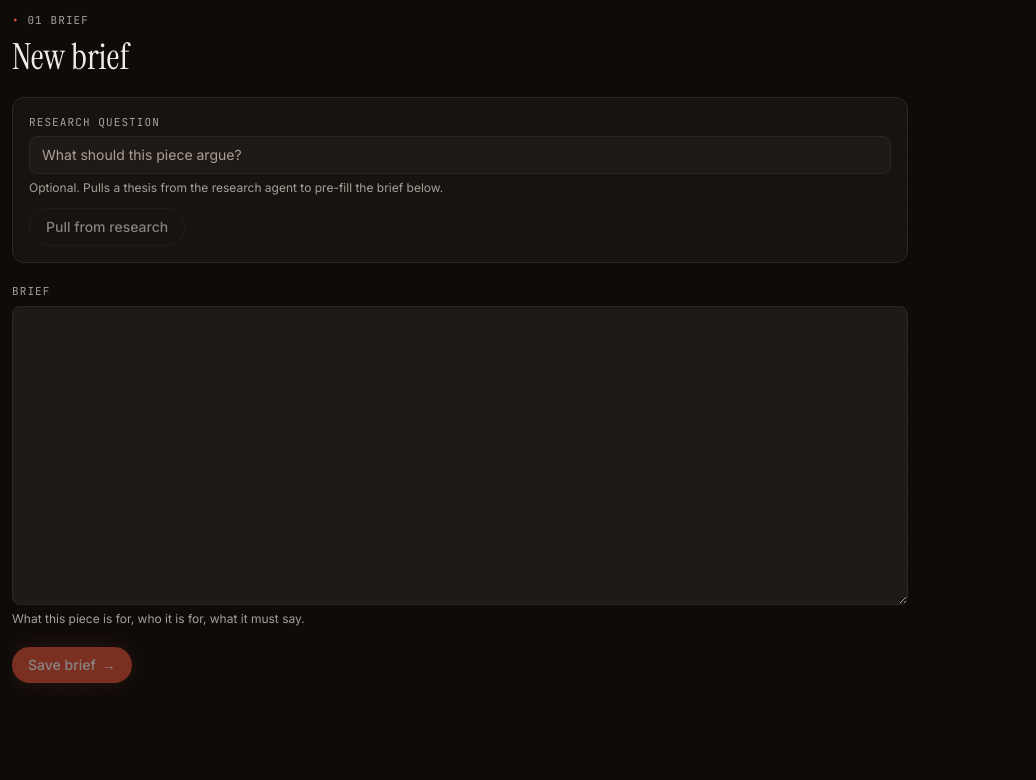
new brief › lets the member edit a pulled thesis before saving
This screenshot has width=1036, height=780.
Check: the button "Pull from research" is shown, box [29,208,185,246]
Type "x" into the field labelled "Research question".
click(460, 155); type("x")  # box [29,136,891,174]
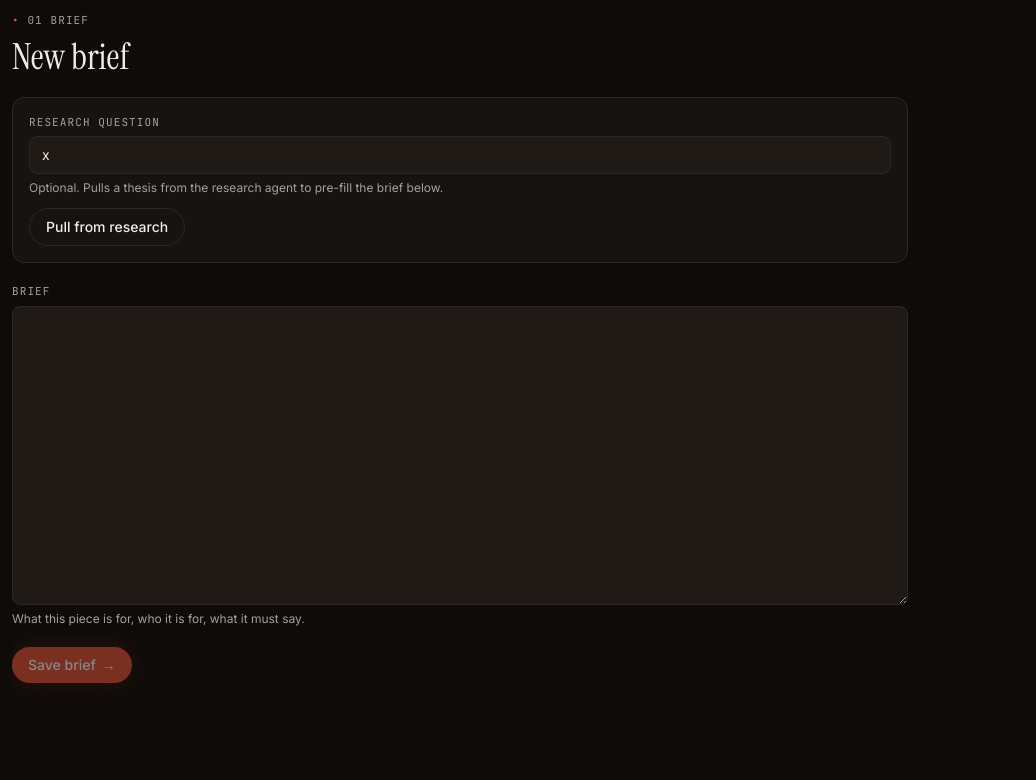
Click the button "Pull from research".
click(107, 227)  # box [29,208,185,246]
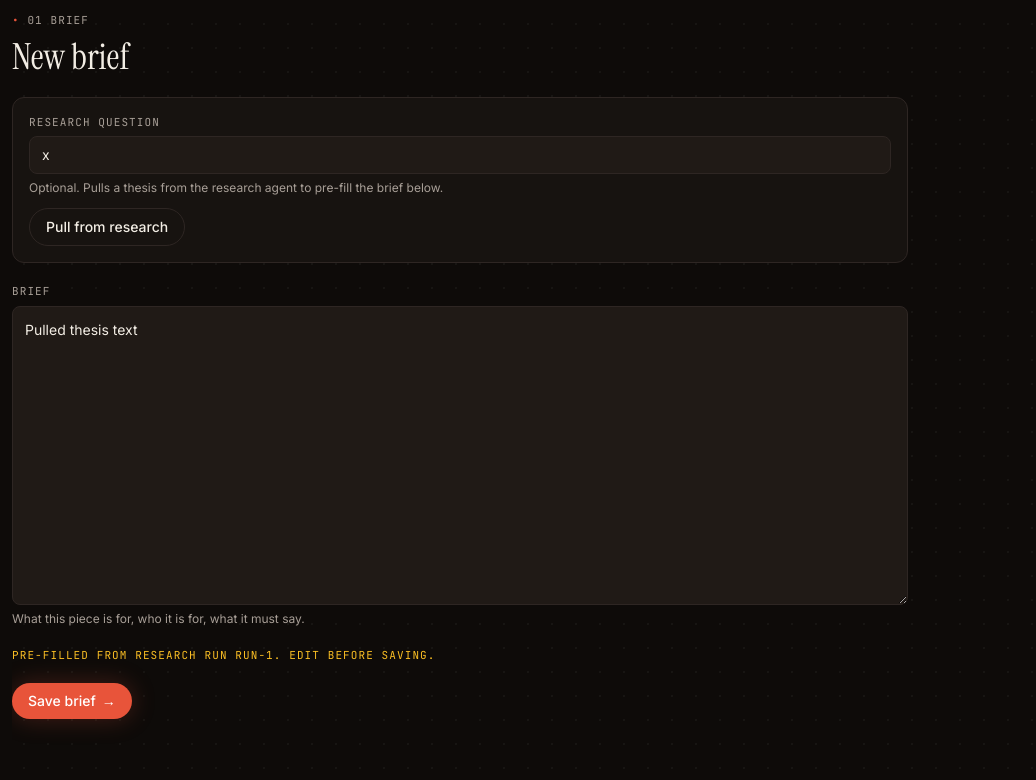
Check: the text box labelled "Brief" holds "Pulled thesis text", box [12,306,908,604]
Check: the text "Pre-filled from research run run-1. Edit before saving." is shown, box [12,648,436,662]
Check: the button "Save brief →" is enabled, box [12,683,132,719]
